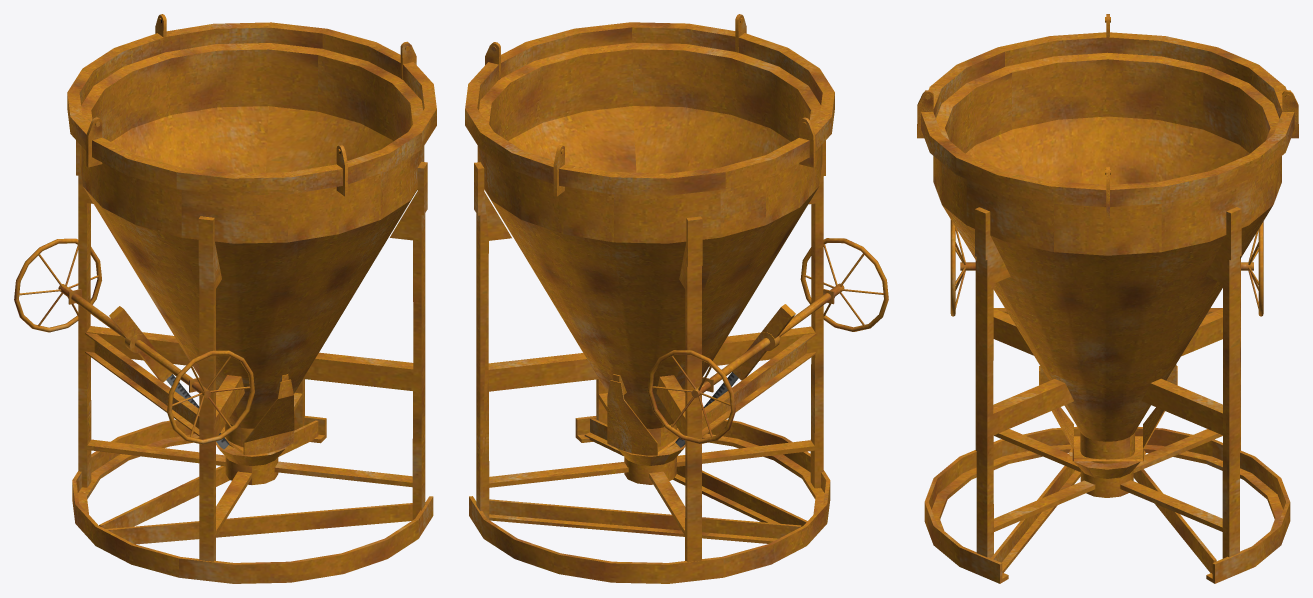
3 renders of one model, left to right at view 1: azimuth 30°, elevation 25°; view 2: azimuth 150°, elevation 25°; view 3: azimuth 270°, elevation 25°, orthographic.
Parts seen in each view (by area): view 1: Body 1; view 2: Body 1; view 3: Body 1.
Boxes of the visible parts, x1,y1,x2,y2 form: Body 1: (14,14,436,583); Body 1: (465,14,888,583); Body 1: (917,14,1298,583).
Size of the model in its own units: 18.22 by 22.65 by 18.22.
Materials: 1 (1 with a texture image).
